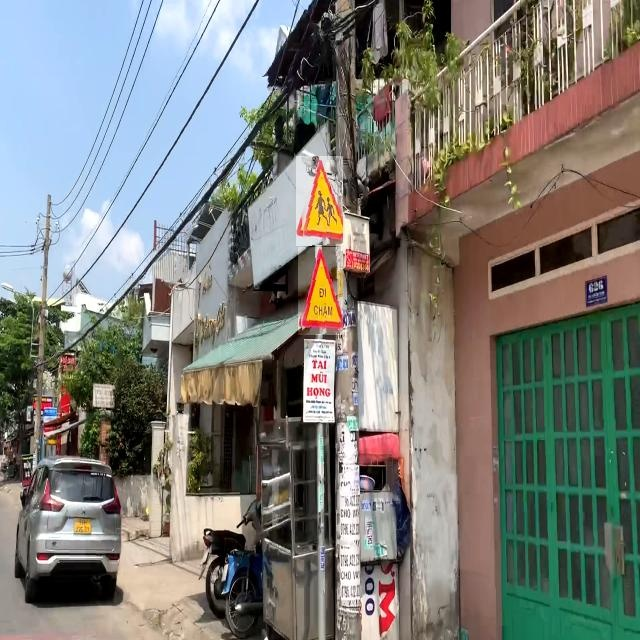bien_nguy_hiem: (296, 156, 343, 246), (298, 247, 343, 335)
